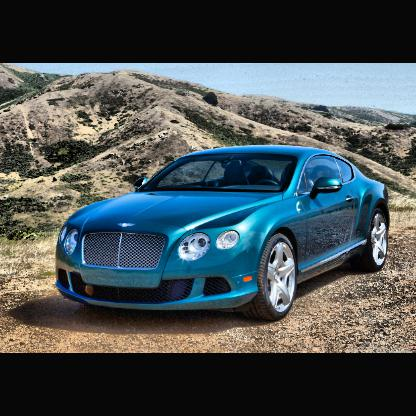Bentley Continental GT Coupe 2012: (55, 144, 391, 325)
